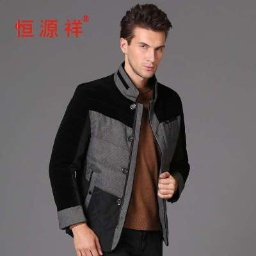face: (121, 5, 169, 79)
